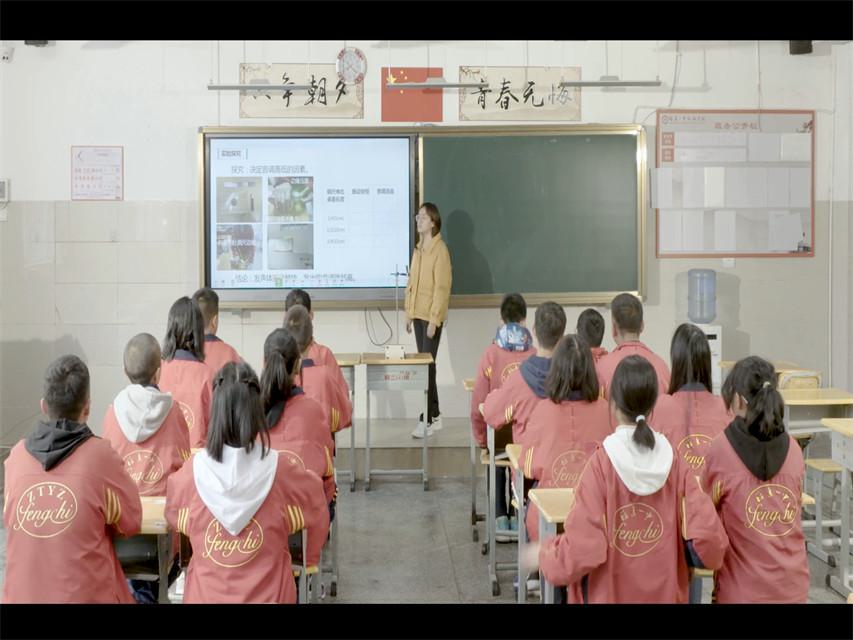listen: (2, 352, 118, 573), (199, 359, 282, 560), (712, 351, 799, 502), (102, 328, 180, 488), (586, 355, 673, 494), (248, 323, 317, 487), (657, 315, 720, 429), (537, 338, 602, 447), (155, 297, 212, 406), (515, 302, 565, 417), (483, 291, 533, 380), (603, 282, 661, 354)
